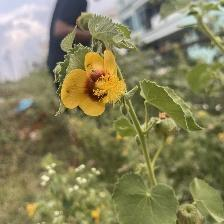indian mallow: (61, 49, 128, 118)
